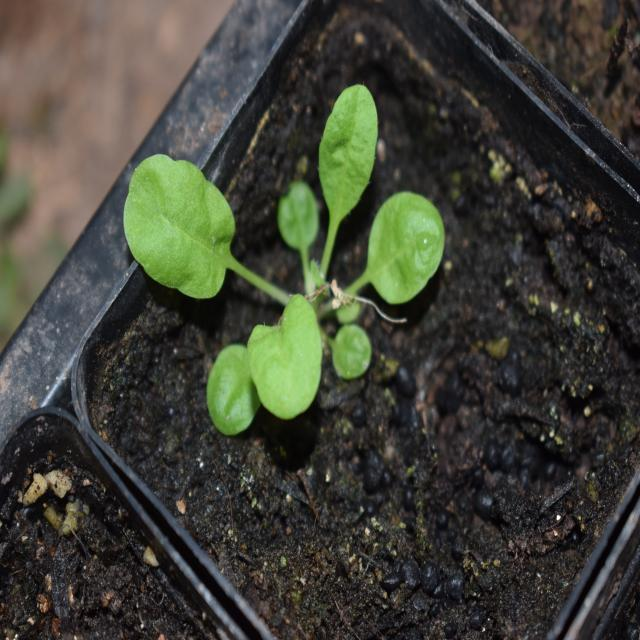Shepherd_Purse: (144, 81, 457, 437)
